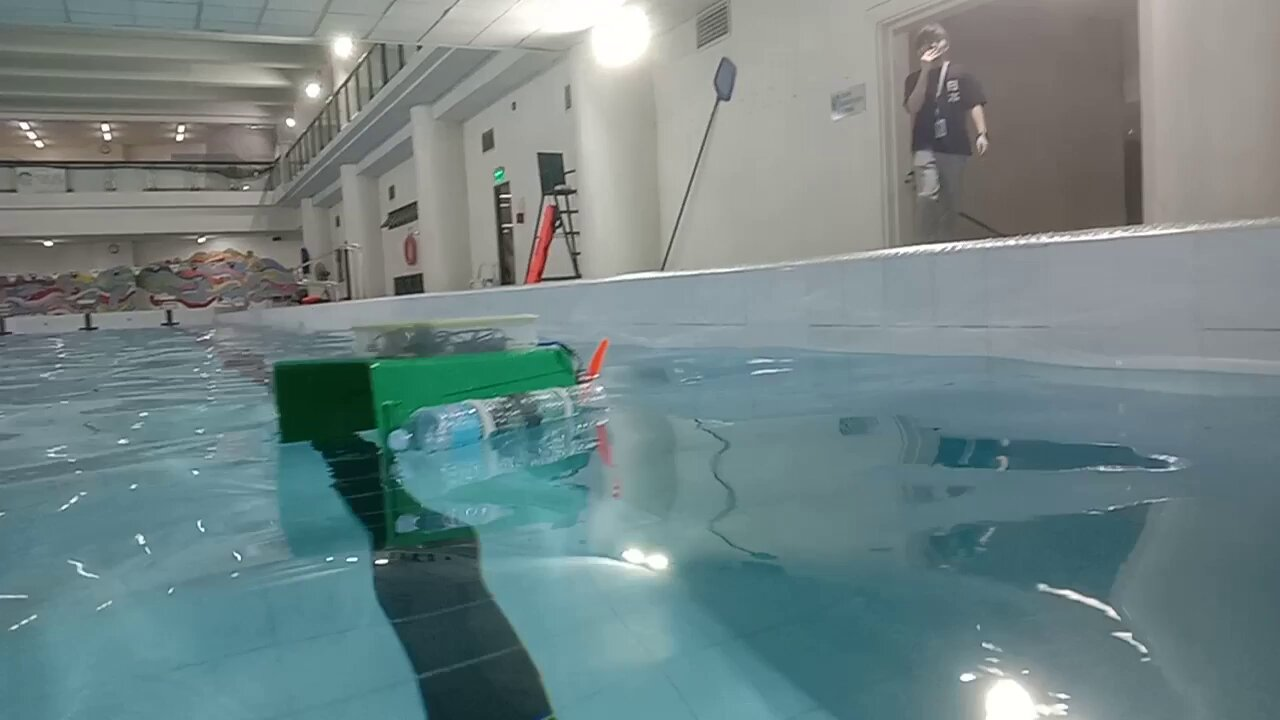drone: (271, 314, 608, 451)
